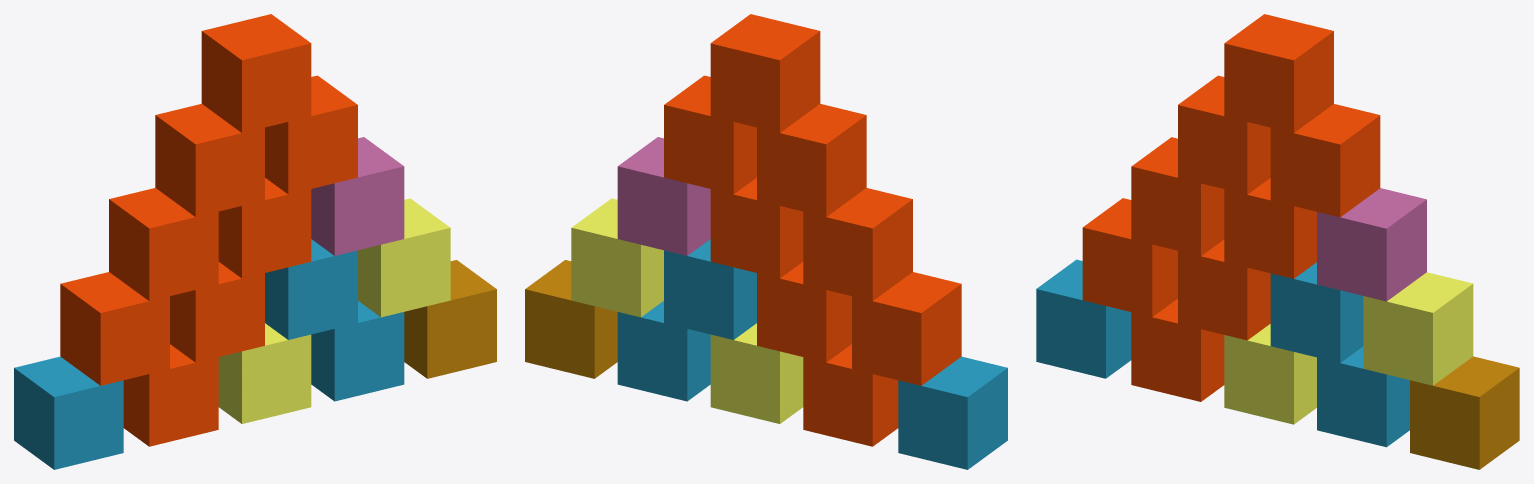
3 views of the same model, side by side, from view 1: azimuth 30°, elevation 25°; view 2: azimuth 150°, elevation 25°; view 3: azimuth 330°, elevation 25° (orthographic).
Visible parts, largest first — view 1: Null_1, Null, Null_2, Null_11, Null_4; view 2: Null_1, Null, Null_2, Null_11, Null_4; view 3: Null_1, Null, Null_2, Null_4, Null_11.
Boxes of the visible parts, x1,y1,x2,y2 form: Null_1: (60, 14, 357, 446); Null: (14, 239, 404, 469); Null_2: (218, 198, 450, 423); Null_11: (311, 137, 404, 255); Null_4: (404, 260, 496, 378); Null_1: (664, 14, 961, 446); Null: (617, 239, 1007, 469); Null_2: (571, 198, 803, 423); Null_11: (617, 137, 710, 255); Null_4: (525, 260, 617, 378); Null_1: (1082, 14, 1380, 401); Null: (1036, 259, 1409, 447); Null_2: (1224, 272, 1473, 424); Null_4: (1410, 356, 1519, 469); Null_11: (1317, 188, 1426, 301).
Bounding box in the file's own units: 950 × 746 × 149.
